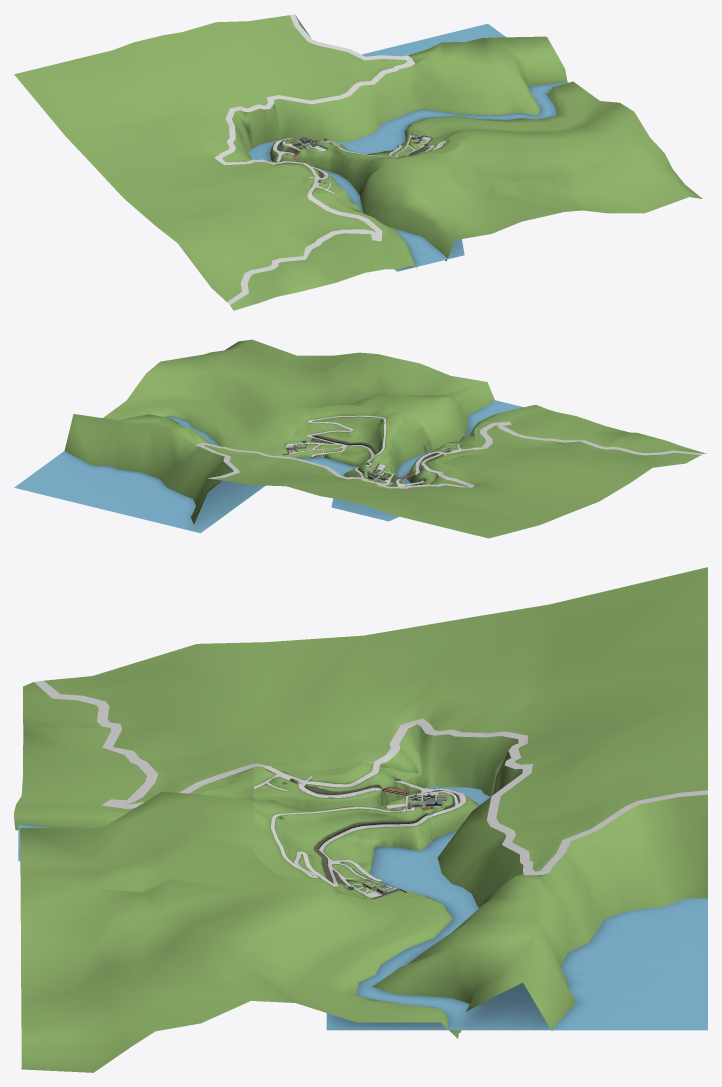
File: 全園區場景20250303.glb
3 renders of one model, top to bottom at view 1: azimuth 30°, elevation 25°; view 2: azimuth 150°, elevation 25°; view 3: azimuth 270°, elevation 25°, orthographic. The views are drawn at different scales.
Parts seen in each view (by area): view 1: mountain, Terrain_SMALL_NEW, river.001, Road; view 2: mountain, Terrain_SMALL_NEW, river.001, Road, 土堆; view 3: mountain, Terrain_SMALL_NEW, river.001, Road, 土堆.
Part boxes in pixels (left/top/right/bottom): mountain: left=14, top=14, right=567, bottom=310; Terrain_SMALL_NEW: left=267, top=81, right=702, bottom=269; river.001: left=248, top=23, right=568, bottom=271; Road: left=273, top=134, right=446, bottom=193; mountain: left=64, top=409, right=706, bottom=538; Terrain_SMALL_NEW: left=103, top=339, right=547, bottom=486; river.001: left=14, top=400, right=523, bottom=533; Road: left=285, top=415, right=475, bottom=486; 土堆: left=311, top=435, right=438, bottom=486; mountain: left=16, top=567, right=707, bottom=1030; Terrain_SMALL_NEW: left=14, top=760, right=479, bottom=1072; river.001: left=18, top=786, right=707, bottom=1030; Road: left=253, top=763, right=465, bottom=897; 土堆: left=304, top=779, right=460, bottom=884.
Bounding box in the file's own units: 1966 × 375 × 1593.
Materials: 8 (8 with a texture image).
